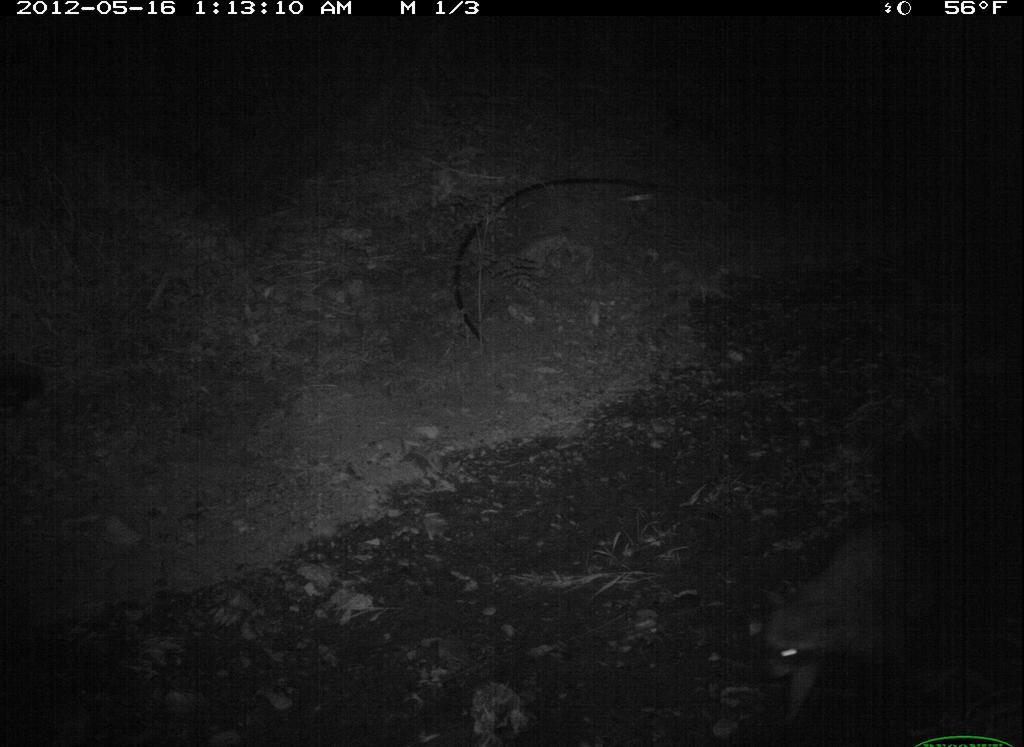raccoon: (754, 487, 939, 711)
